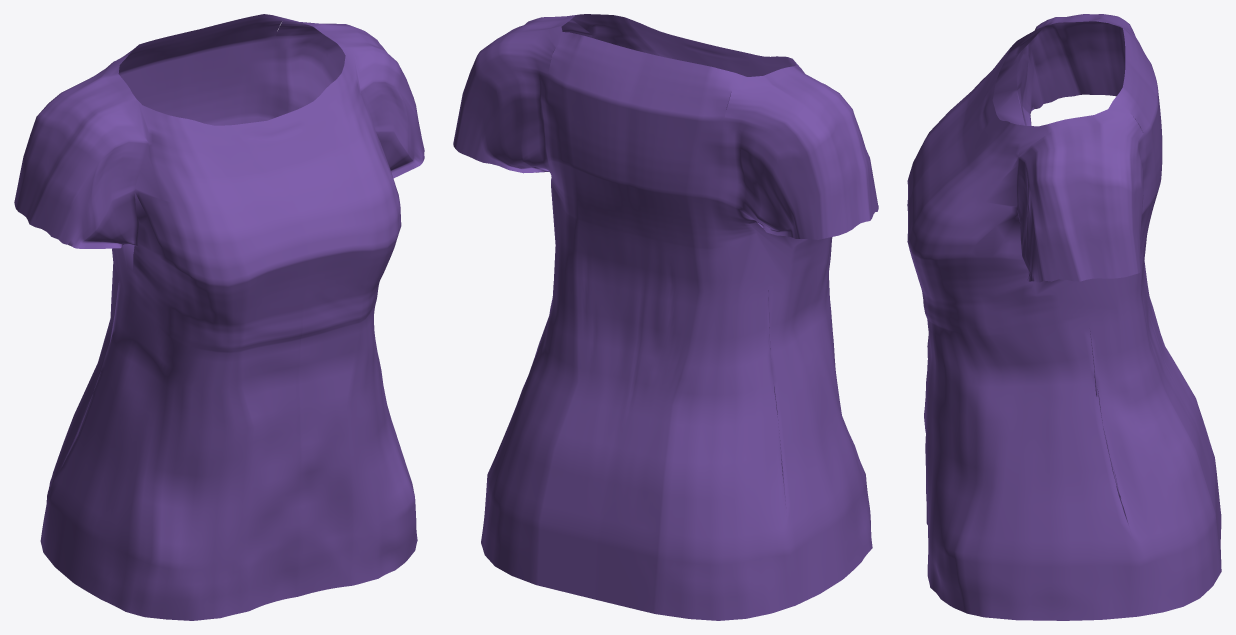
Rendered from tshirt.glb.
3 views of the same model, side by side, from view 1: azimuth 30°, elevation 25°; view 2: azimuth 150°, elevation 25°; view 3: azimuth 270°, elevation 25° (orthographic). The views are drawn at different scales.
Visible parts, largest first — view 1: Circle; view 2: Circle; view 3: Circle.
Part boxes in pixels (bbox=[...]): Circle: bbox=[14, 14, 424, 620]; Circle: bbox=[453, 14, 878, 620]; Circle: bbox=[907, 14, 1221, 620].
Bounding box in the file's own units: 2.04 × 2.51 × 1.45.
